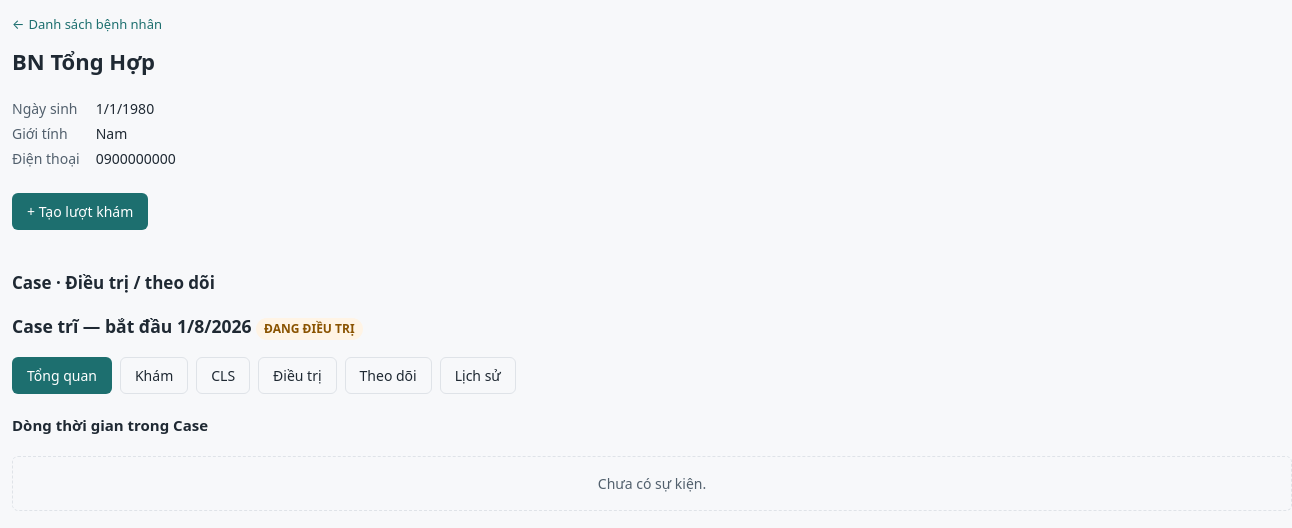
Test: PatientDetailPage — unified visit entry (DEMO UI) › ACTIVE Hemorrhoid Case → NO new Hemorrhoid Initial action, offers continue + Khám khác
Click the button "+ Tạo lượt khám": (80, 211) [12, 192, 148, 230]
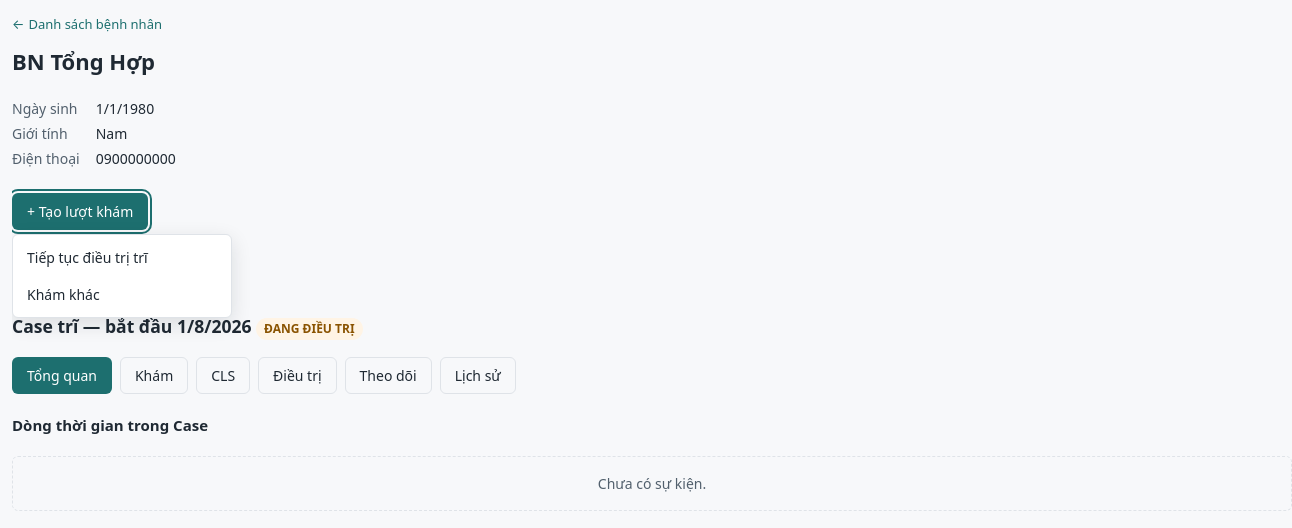
Expected: the menu item "Tiếp tục điều trị trĩ" is shown, [27, 248, 148, 266]
